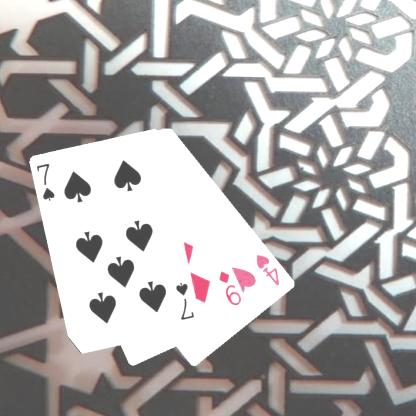4H: (254, 252, 282, 288)
7S: (34, 160, 57, 203), (173, 280, 196, 322)
9D: (216, 268, 243, 307)
